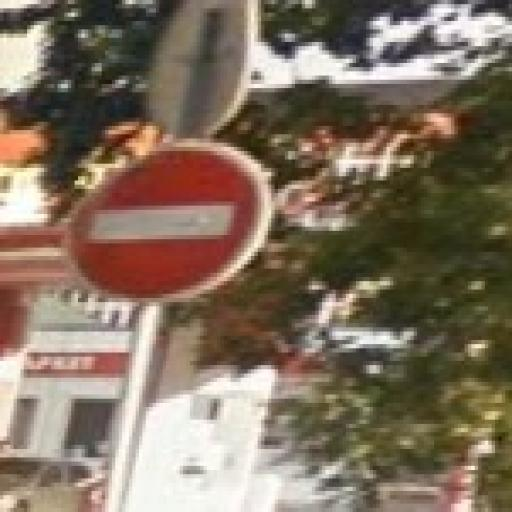traffic_sign: (62, 140, 276, 308)
